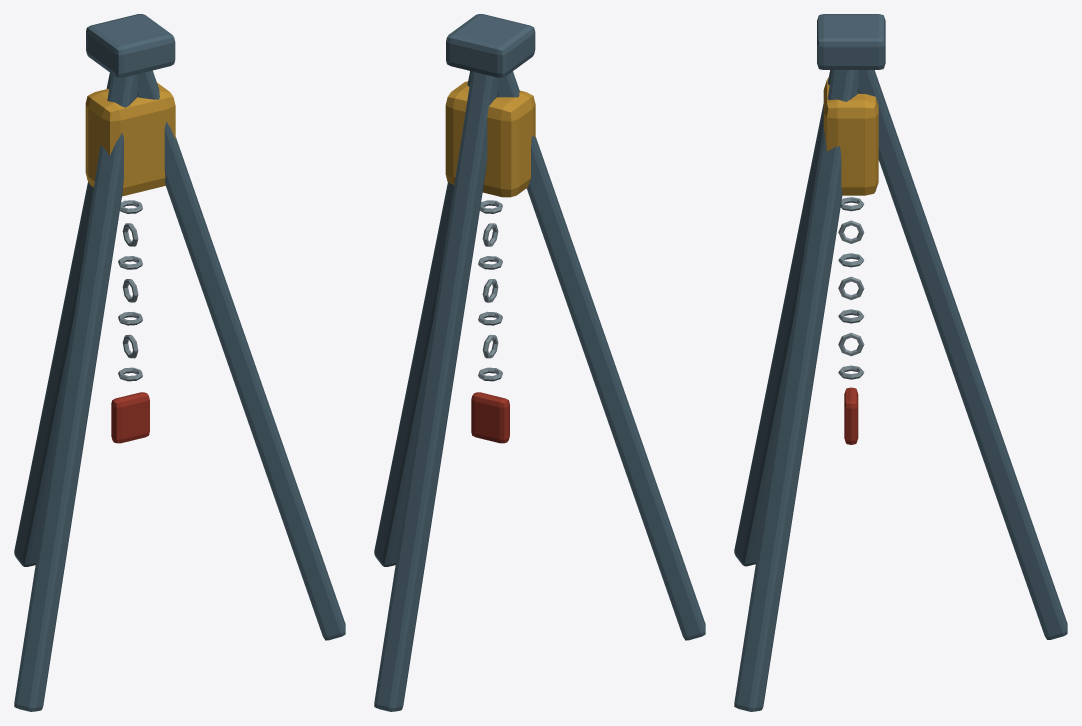
Rendered from equipment_hoist.glb.
3 views of the same model, side by side, from view 1: azimuth 30°, elevation 25°; view 2: azimuth 150°, elevation 25°; view 3: azimuth 270°, elevation 25° (orthographic).
Parts seen in each view (by area): view 1: Hoist_Mesh; view 2: Hoist_Mesh; view 3: Hoist_Mesh.
Part boxes in pixels (x1=…): Hoist_Mesh: x1=14, y1=14, x2=345, y2=711; Hoist_Mesh: x1=374, y1=14, x2=705, y2=711; Hoist_Mesh: x1=734, y1=14, x2=1067, y2=711.
Size of the model in its own units: 1.12 by 1.96 by 0.9693.
